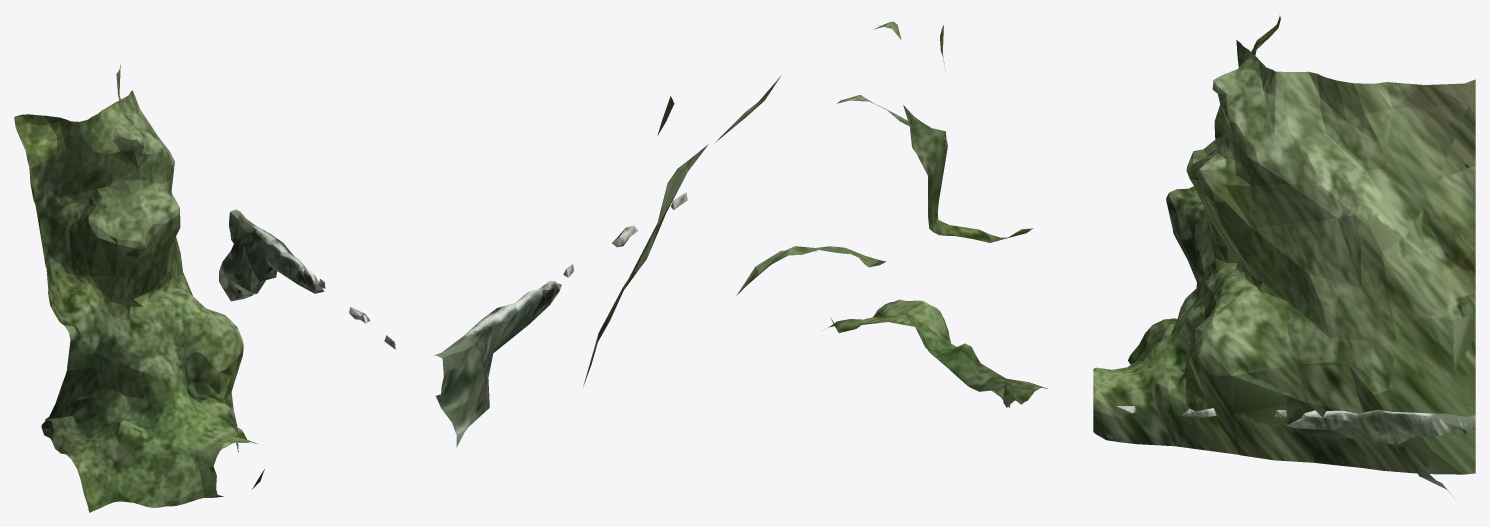
3 renders of one model, left to right at view 1: azimuth 30°, elevation 25°; view 2: azimuth 150°, elevation 25°; view 3: azimuth 270°, elevation 25°, orthographic. The views are drawn at different scales.
Size of the model in its own units: 5.9 by 5.9 by 5.9.
3 materials, 3 textured.
